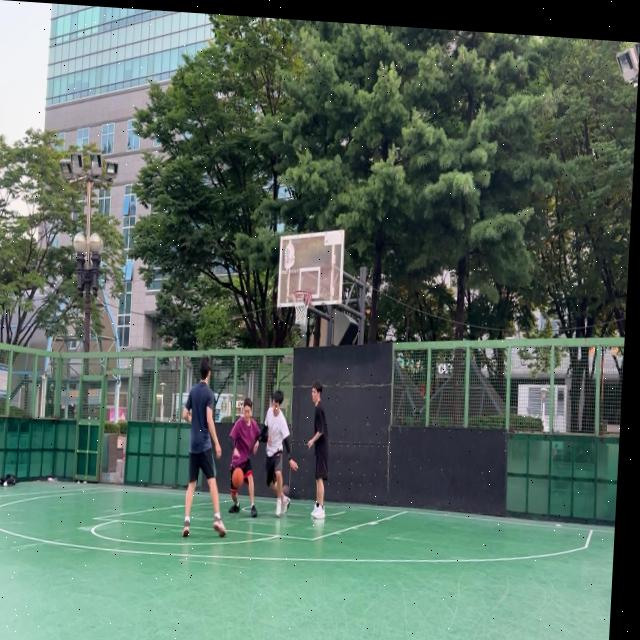basketball: (232, 467, 245, 489), (282, 484, 291, 497)
hoop: (291, 289, 312, 326)
